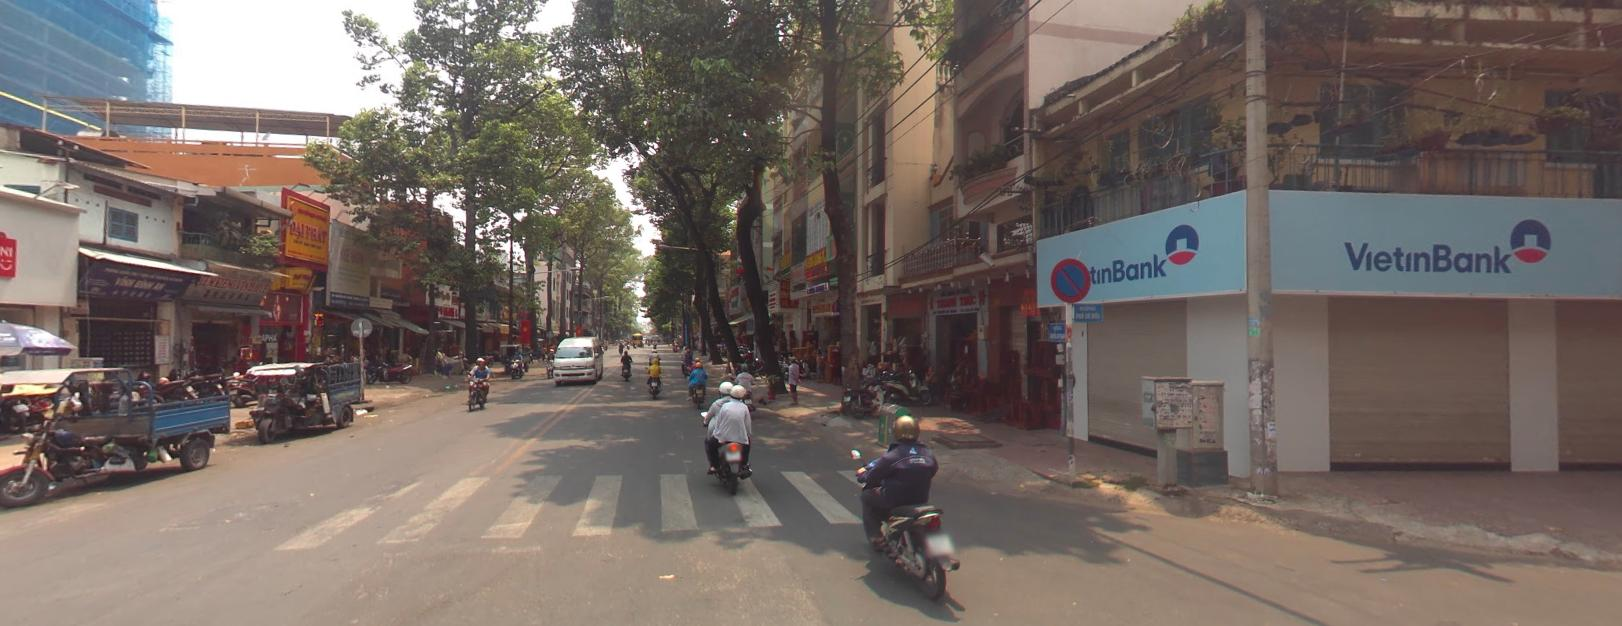Cam dung va do: (1050, 256, 1091, 301), (1051, 256, 1090, 300)
